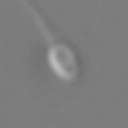normal: (19, 1, 55, 43)
